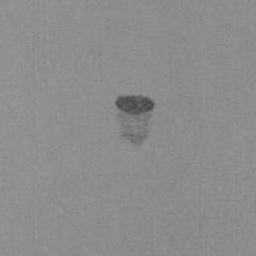Inclusion: (115, 96, 155, 115), (120, 130, 148, 146)
